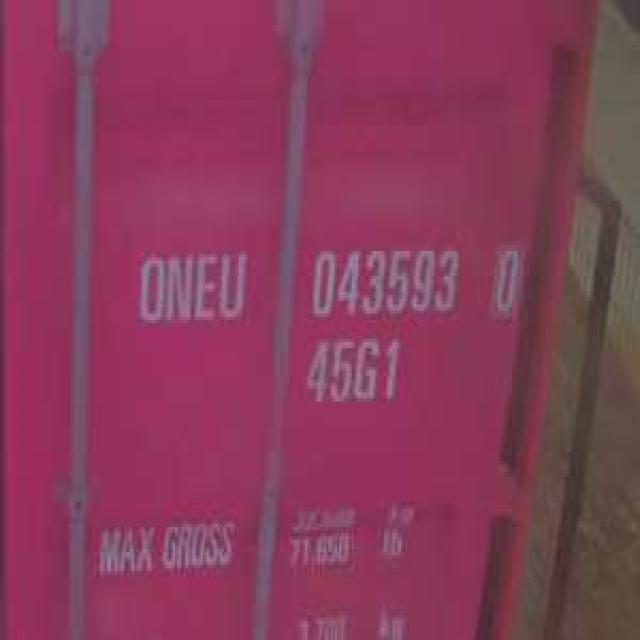dv: (490, 238, 520, 314)
owner: (130, 242, 252, 326)
serial: (303, 235, 463, 320)
size: (301, 332, 403, 404)
